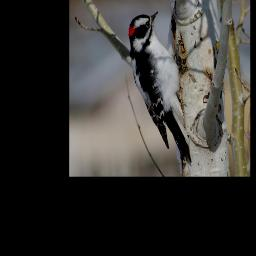Woodpecker: (129, 10, 193, 167)
